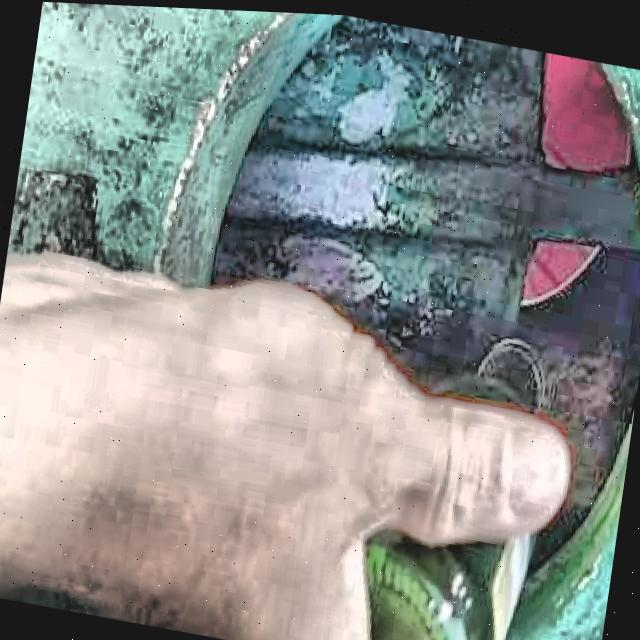glass: (364, 528, 529, 640), (470, 332, 544, 412)
